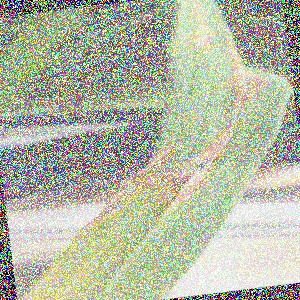Brown_Spot: (153, 123, 245, 200), (82, 136, 184, 205), (228, 30, 274, 106), (184, 0, 220, 47)
